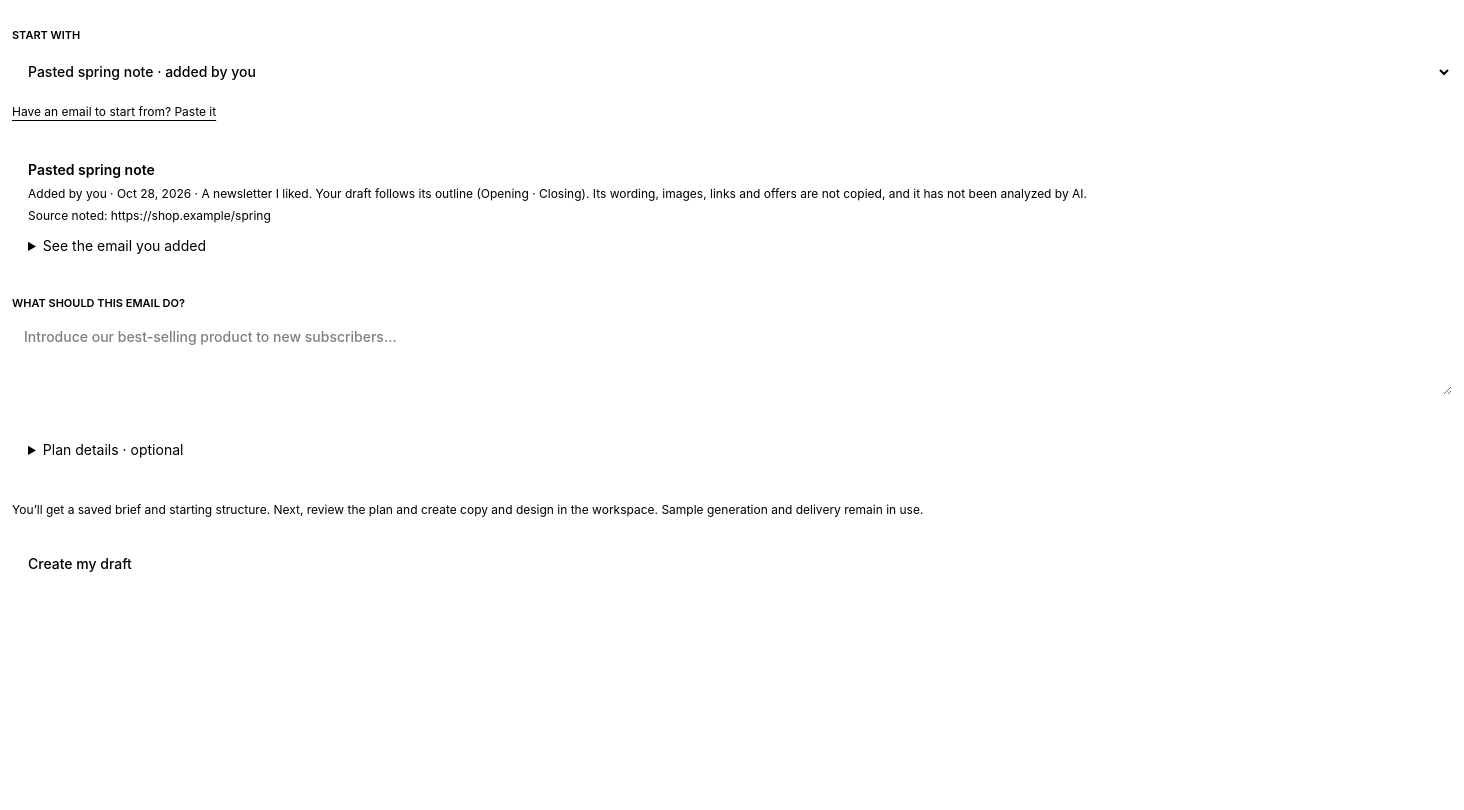
Test: First draft composer › preselects an email the owner added and shows it as labelled plain text
Check: the text "Added by you" shows "A newsletter I liked", box [191,186,309,201]
Check: the text "has not been analyzed by AI" is shown, box [582,186,1087,201]
Click the heading "See the email you added" at (124, 245), box [43,237,206,254]
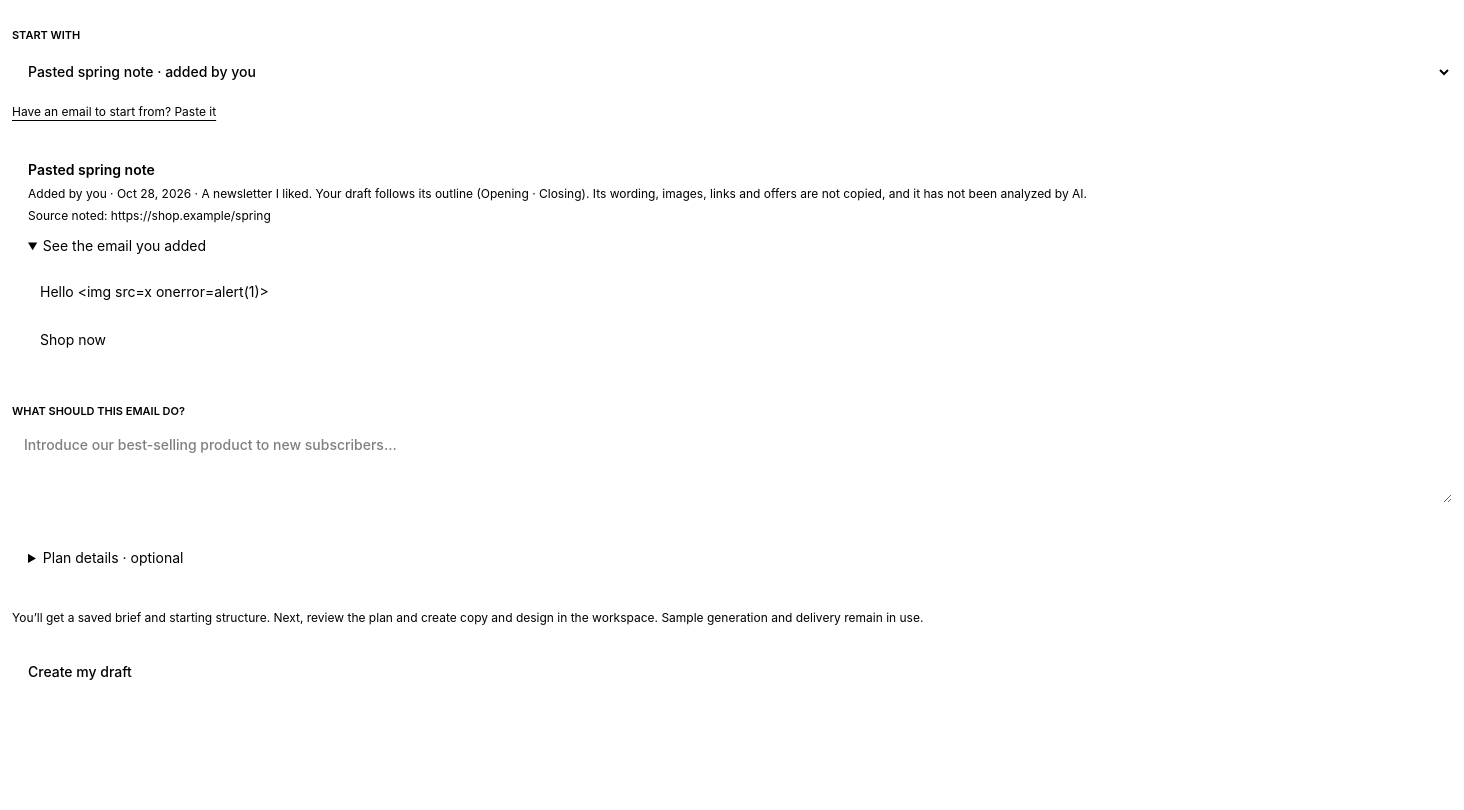
Check: the text "Hello <img src=x onerror=alert(1)> Shop now" is shown, box [40,283,269,348]
